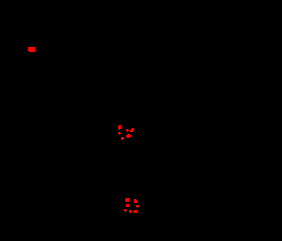Target: (28, 47, 36, 52), (126, 134, 131, 138), (130, 128, 134, 132), (125, 198, 129, 202), (118, 125, 121, 130), (134, 199, 137, 203), (133, 210, 137, 213), (126, 129, 129, 132), (118, 132, 121, 135), (121, 137, 124, 140), (126, 204, 129, 207), (136, 205, 139, 208), (124, 209, 127, 212), (129, 210, 132, 213)
